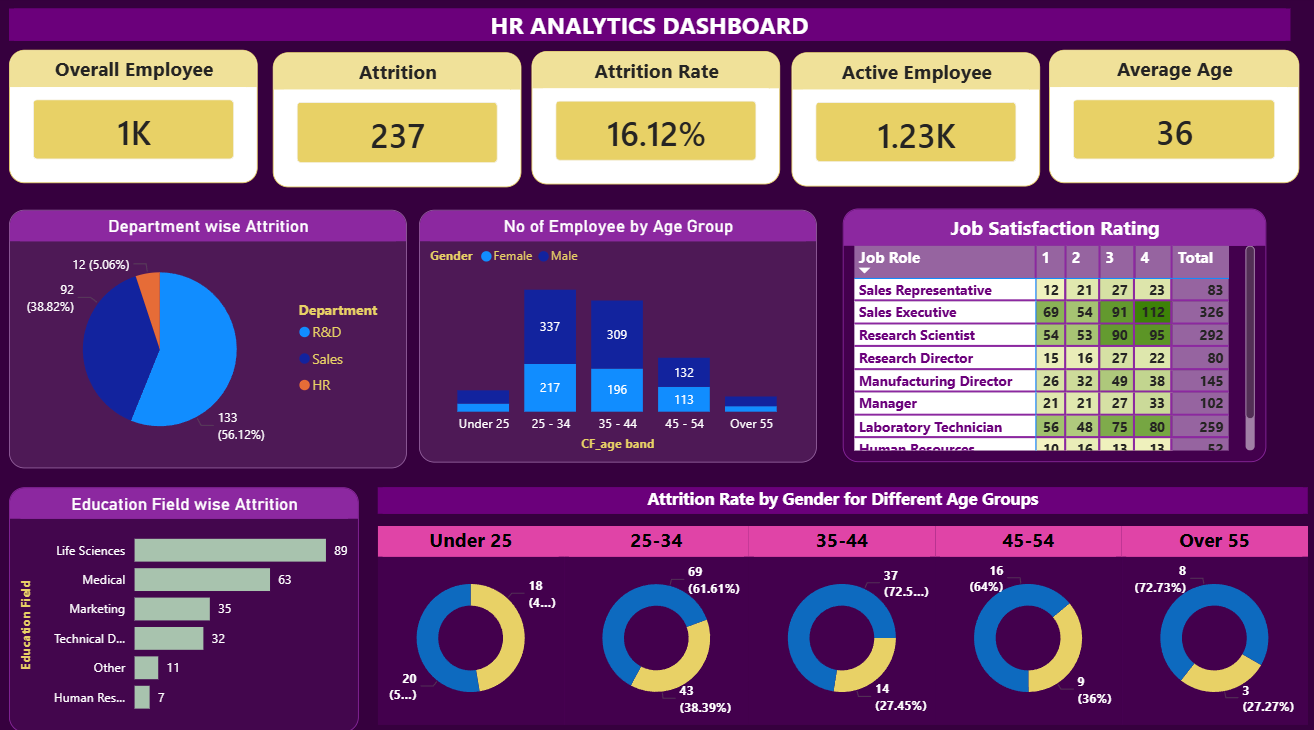

The page's visual inventory and layout, read from the dashboard file:
{"tool":"powerbi","page":{"name":"Page 1","canvas":[1280,720],"ordinal":0},"visuals":[{"type":"cardVisual","title":"Overall Employee","fields":{"Data":["Sum(HR data.Employee Count)"]},"box":[14.5,51.9,240.1,129.1],"z":0},{"type":"cardVisual","title":"Attrition","fields":{"Data":["Sum(HR data.Attrition Count)"]},"box":[269,54.3,240.1,130.3],"z":1000},{"type":"cardVisual","title":"Attrition Rate","fields":{"Data":["HR data.Attrition Rate"]},"box":[518.8,53.1,240.1,129.1],"z":2000},{"type":"cardVisual","title":"Active Employee","fields":{"Data":["HR data.Active Employee"]},"box":[769.8,54,240.4,129.6],"z":3000},{"type":"cardVisual","title":"Average Age","fields":{"Data":["Median(HR data.Age)"]},"box":[1018.2,51.9,241.3,129.1],"z":4000},{"type":"pieChart","title":"Department wise Attrition","fields":{"Category":["HR data.Department"],"Y":["Sum(HR data.Attrition Count)"]},"box":[14.5,206.3,383.6,249.7],"z":5000},{"type":"columnChart","title":"No of Employee by Age Group","fields":{"Category":["HR data.CF_age band"],"Y":["Sum(HR data.Employee Count)"],"Series":["HR data.Gender"]},"box":[410.2,206.3,383.6,243.7],"z":6000},{"type":"pivotTable","title":"Job Satisfaction Rating","fields":{"Rows":["HR data.Job Role"],"Columns":["HR data.Job Satisfaction"],"Values":["Sum(HR data.Employee Count)"]},"box":[819.2,205.1,409,244.9],"z":7000},{"type":"barChart","title":"Education Field wise Attrition","fields":{"Category":["HR data.Education Field"],"Y":["Sum(HR data.Attrition Count)"]},"box":[14.5,474.1,337.8,236.5],"z":8000},{"type":"textbox","title":"Attrition Rate by Gender for Different Age Groups","box":[370.4,474.1,897.6,25.3],"z":9000},{"type":"donutChart","title":"Under 25","fields":{"Category":["HR data.Gender"],"Y":["Sum(HR data.Attrition Count)"],"Series":["HR data.CF_age band"]},"box":[370.4,511.5,179.8,191.8],"z":10000},{"type":"donutChart","title":"25-34","fields":{"Category":["HR data.Gender"],"Y":["Sum(HR data.Attrition Count)"],"Series":["HR data.CF_age band"]},"box":[550.1,511.5,178.6,191.8],"z":11000},{"type":"donutChart","title":"45-54","fields":{"Category":["HR data.Gender"],"Y":["Sum(HR data.Attrition Count)"],"Series":["HR data.CF_age band"]},"box":[908.9,511.8,179.6,191.8],"z":12000},{"type":"donutChart","title":"Over 55","fields":{"Category":["HR data.Gender"],"Y":["Sum(HR data.Attrition Count)"],"Series":["HR data.CF_age band"]},"box":[1088.5,511.8,179.6,191.8],"z":13000},{"type":"donutChart","title":"35-44","fields":{"Category":["HR data.Gender"],"Y":["Sum(HR data.Attrition Count)"],"Series":["HR data.CF_age band"]},"box":[729.3,511.8,179.6,191.8],"z":14000},{"type":"textbox","title":"HR ANALYTICS DASHBOARD","box":[14.5,12.1,1236.6,31.4],"z":15000}]}

Visuals, with their boxes in screenshot pixels (x1, y1, x2, y2), scaled from the page's 1280x720 canvas onto the 1314x730 screenshot:
"Overall Employee" cardVisual: <bbox>15, 53, 261, 184</bbox>
"Attrition" cardVisual: <bbox>276, 55, 523, 187</bbox>
"Attrition Rate" cardVisual: <bbox>533, 54, 779, 185</bbox>
"Active Employee" cardVisual: <bbox>790, 55, 1037, 186</bbox>
"Average Age" cardVisual: <bbox>1045, 53, 1293, 184</bbox>
"Department wise Attrition" pieChart: <bbox>15, 209, 409, 462</bbox>
"No of Employee by Age Group" columnChart: <bbox>421, 209, 815, 456</bbox>
"Job Satisfaction Rating" pivotTable: <bbox>841, 208, 1261, 456</bbox>
"Education Field wise Attrition" barChart: <bbox>15, 481, 362, 720</bbox>
"Attrition Rate by Gender for Different Age Groups" textbox: <bbox>380, 481, 1302, 506</bbox>
"Under 25" donutChart: <bbox>380, 519, 565, 713</bbox>
"25-34" donutChart: <bbox>565, 519, 748, 713</bbox>
"45-54" donutChart: <bbox>933, 519, 1117, 713</bbox>
"Over 55" donutChart: <bbox>1117, 519, 1302, 713</bbox>
"35-44" donutChart: <bbox>749, 519, 933, 713</bbox>
"HR ANALYTICS DASHBOARD" textbox: <bbox>15, 12, 1284, 44</bbox>
